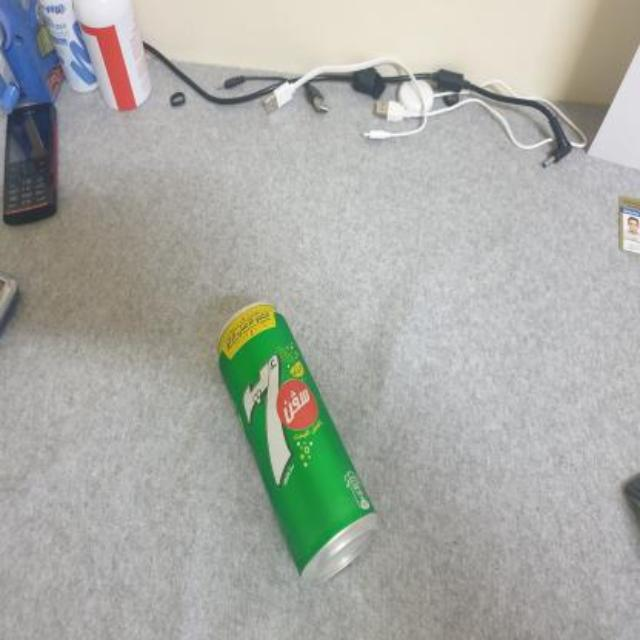metal: (218, 303, 374, 577)
